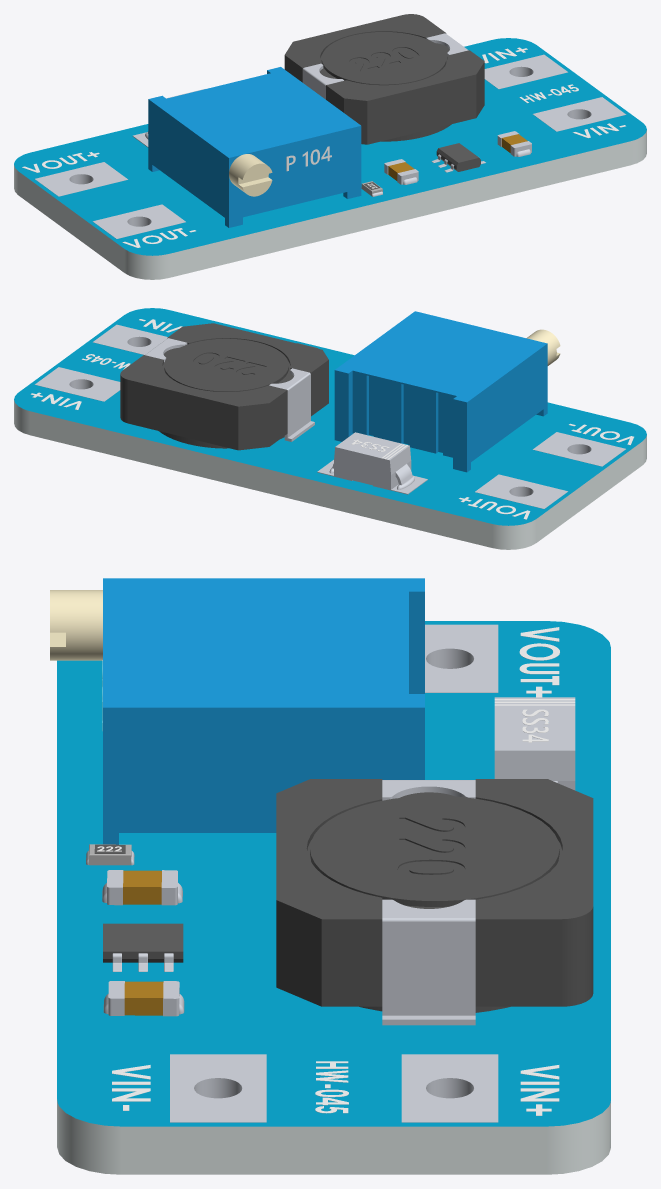
The picture shows the model from 3 angles, top to bottom: view 1: azimuth 30°, elevation 25°; view 2: azimuth 150°, elevation 25°; view 3: azimuth 270°, elevation 25°; orthographic projection. The views are drawn at different scales.
Visible parts, largest first — view 1: MT3608 Converter PCB.STEP-1, HorizonatalTrimmerP104.STEP-1, smbInductor220.STEP-1, tinysmdChip6pin.STEP-1, smdceramiccapacitorbrown.STEP-2, smdceramiccapacitorbrown.STEP-1; view 2: MT3608 Converter PCB.STEP-1, HorizonatalTrimmerP104.STEP-1, smbInductor220.STEP-1, smdS537diode.STEP-1; view 3: MT3608 Converter PCB.STEP-1, HorizonatalTrimmerP104.STEP-1, smbInductor220.STEP-1, smdS537diode.STEP-1, tinysmdChip6pin.STEP-1, smdceramiccapacitorbrown.STEP-2, smdceramiccapacitorbrown.STEP-1, tinySMDResistor222.STEP-1.
Boxes of the visible parts, x1,y1,x2,y2 form: MT3608 Converter PCB.STEP-1: (14, 38, 646, 279); HorizonatalTrimmerP104.STEP-1: (148, 67, 361, 227); smbInductor220.STEP-1: (284, 14, 484, 144); tinysmdChip6pin.STEP-1: (431, 143, 485, 172); smdceramiccapacitorbrown.STEP-2: (497, 131, 531, 156); smdceramiccapacitorbrown.STEP-1: (384, 159, 418, 184); MT3608 Converter PCB.STEP-1: (14, 308, 646, 549); HorizonatalTrimmerP104.STEP-1: (334, 311, 560, 472); smbInductor220.STEP-1: (120, 323, 328, 450); smdS537diode.STEP-1: (317, 432, 427, 494); MT3608 Converter PCB.STEP-1: (57, 621, 610, 1174); HorizonatalTrimmerP104.STEP-1: (50, 578, 424, 844); smbInductor220.STEP-1: (276, 779, 593, 1025); smdS537diode.STEP-1: (494, 697, 575, 790); tinysmdChip6pin.STEP-1: (103, 923, 183, 971); smdceramiccapacitorbrown.STEP-2: (103, 981, 184, 1016); smdceramiccapacitorbrown.STEP-1: (102, 870, 182, 905); tinySMDResistor222.STEP-1: (86, 844, 134, 865).
Size of the model in its own units: 0.0371 by 0.0073 by 0.0174.
